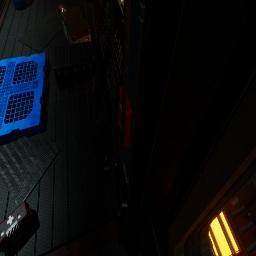FireAlarm ,: (119, 86, 132, 147)
FirstAidBox ,: (0, 200, 34, 253)
NitrogenTank ,: (57, 3, 70, 14)
